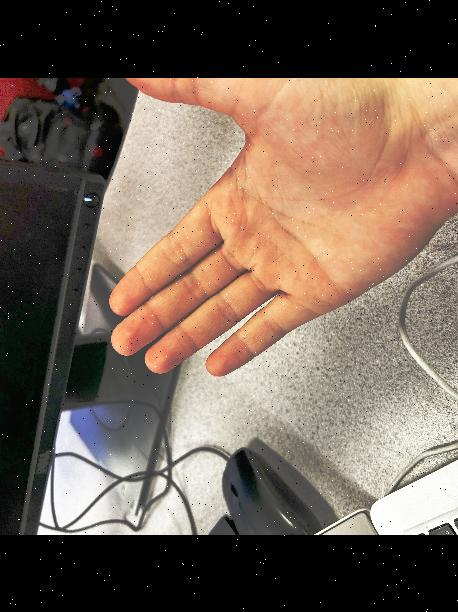Paper: (32, 77, 458, 484)
